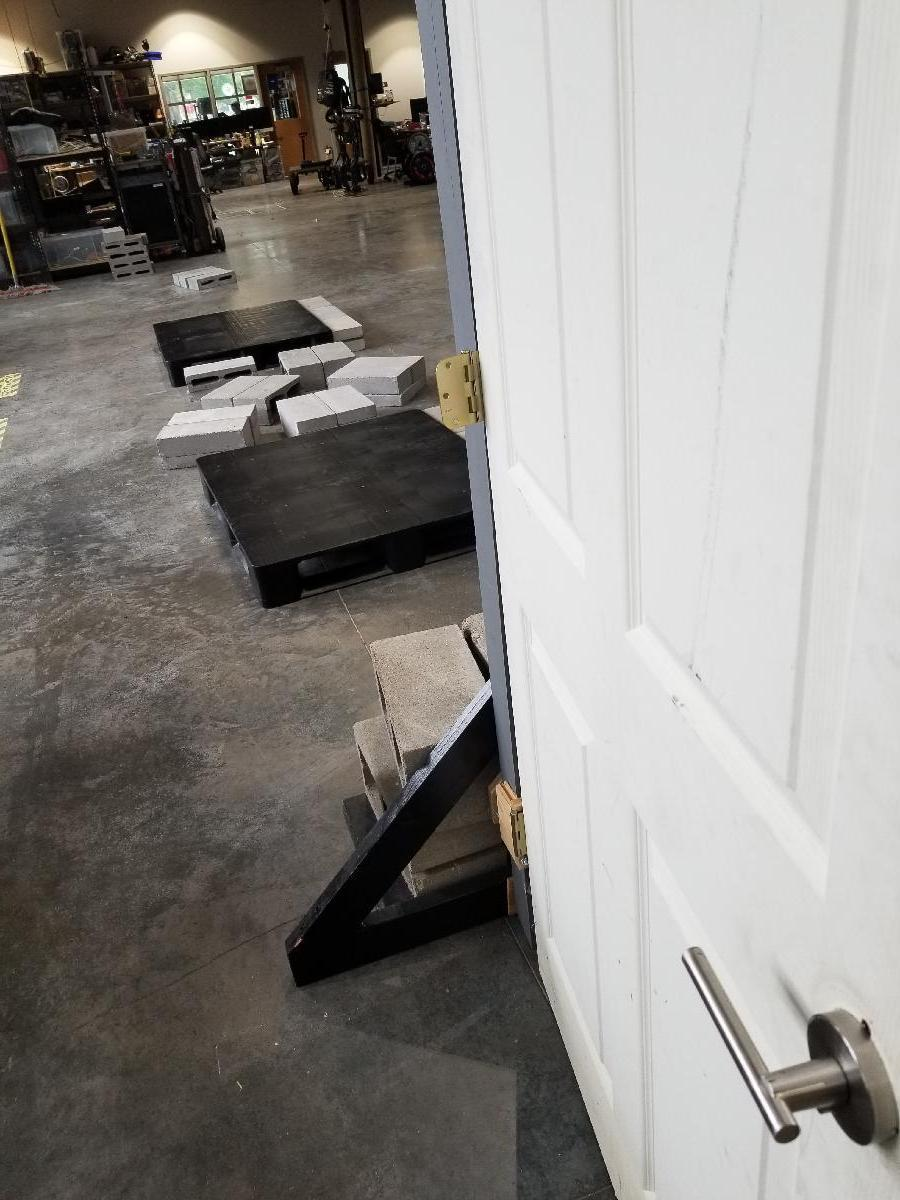door: (530, 0, 894, 1200)
handle: (682, 936, 890, 1146)
